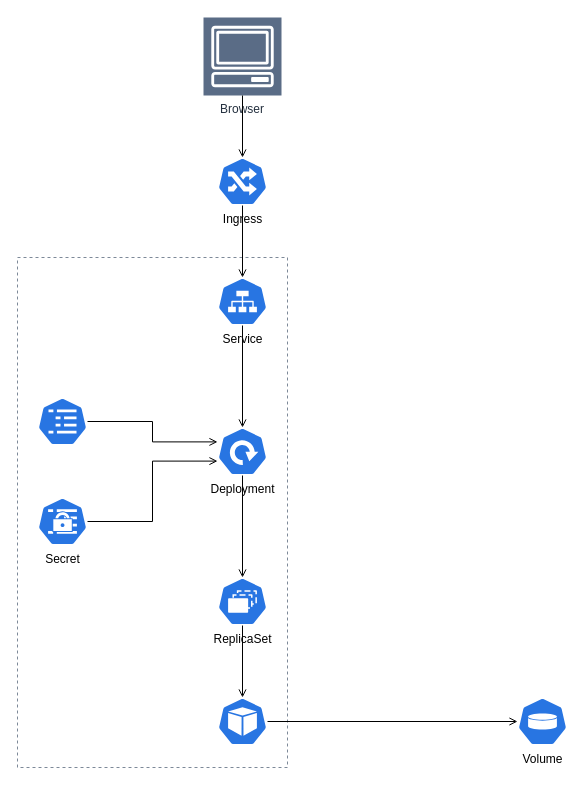
The diagram is 585 pixels wide and 785 high, and some of its shapes have lost their labels. The shapes that lost their labels are listed below. From the top down, each one's box as (x1, y1, x2, y2) in pixels, then its label:
(36, 396, 88, 446): Config
(16, 256, 288, 768): Namespace: orders
(216, 696, 268, 746): Pod
